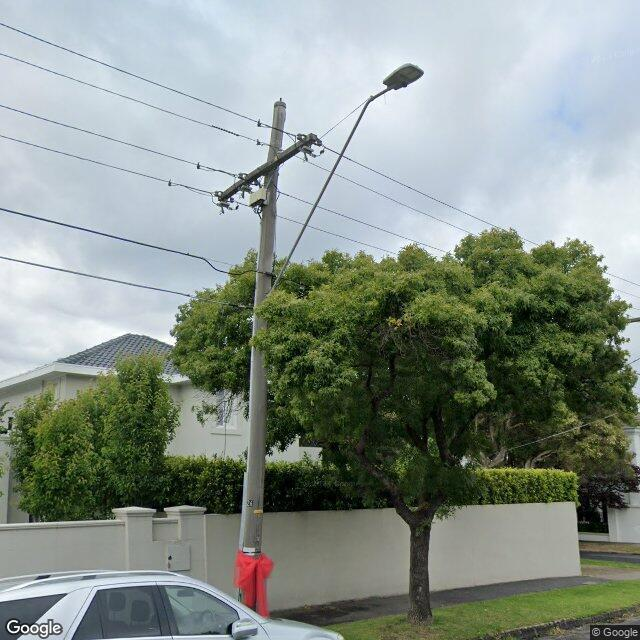crossarm: (167, 120, 327, 214)
streetlight: (264, 61, 426, 298)
timber-pole: (235, 101, 288, 602)
